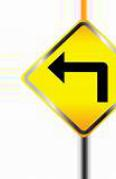left: (22, 21, 116, 137)
